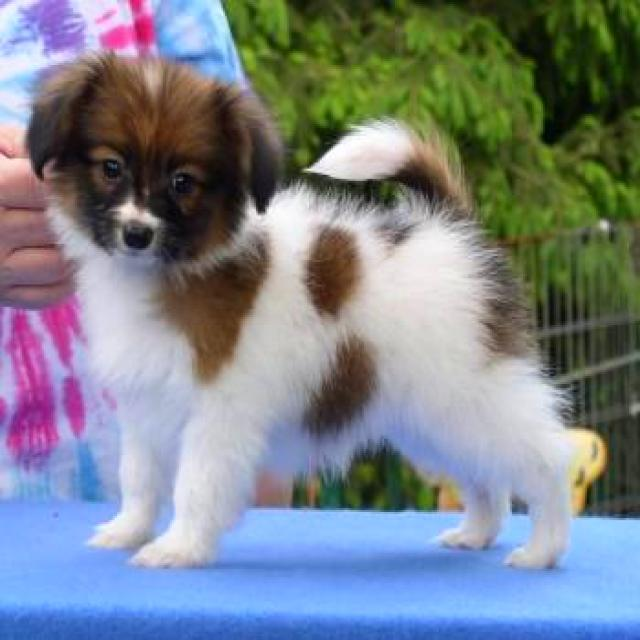papillon: (18, 53, 610, 581)
